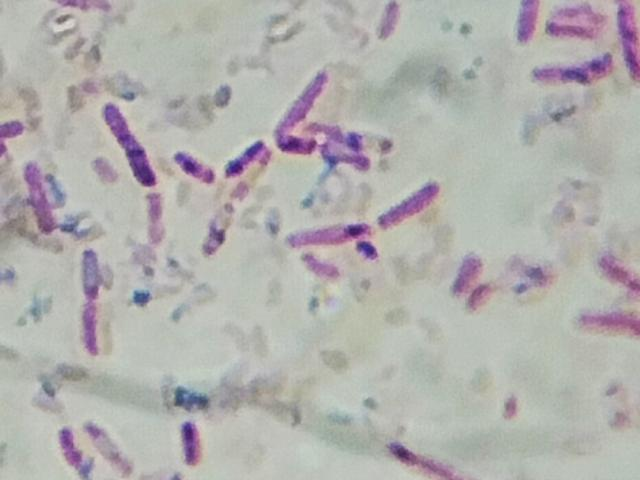E. coli: (99, 100, 155, 191), (373, 179, 445, 230), (79, 247, 110, 365), (381, 430, 445, 477), (526, 56, 613, 90), (286, 69, 334, 127), (281, 216, 373, 246), (25, 157, 60, 233), (575, 299, 640, 339), (82, 419, 130, 473), (309, 119, 393, 147), (452, 252, 492, 310), (596, 246, 640, 293), (175, 415, 210, 469), (48, 425, 87, 473), (239, 154, 279, 200), (201, 199, 231, 254), (549, 9, 602, 40), (323, 143, 376, 170), (510, 0, 544, 41), (303, 247, 343, 281), (371, 0, 400, 41), (173, 143, 206, 178), (221, 135, 256, 168), (0, 107, 24, 143), (276, 135, 319, 155)
